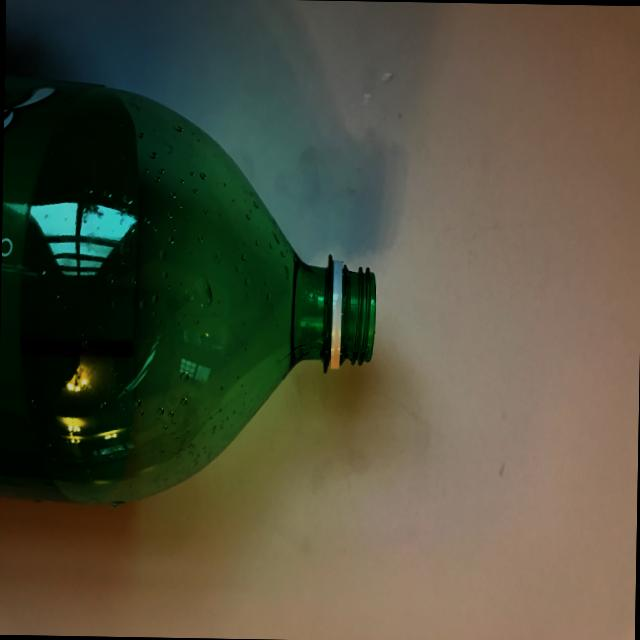Plastic: (0, 37, 411, 515)
